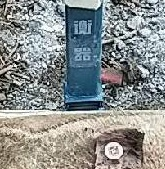text: (96, 131, 132, 168)
